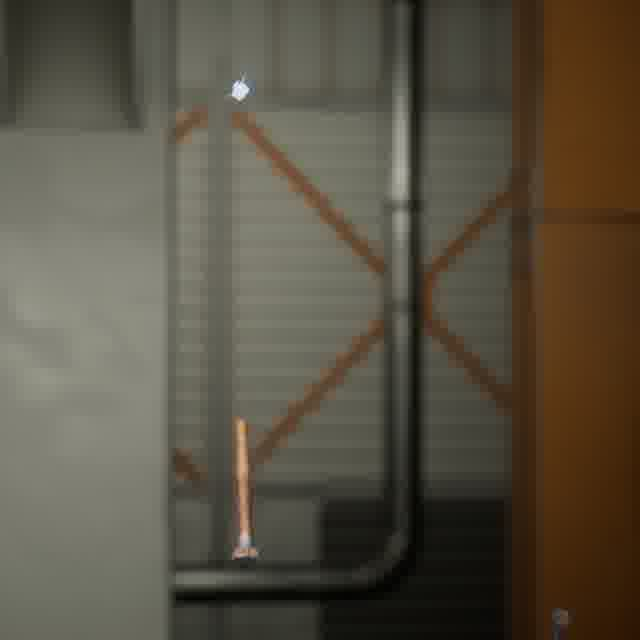bolt: (227, 415, 262, 567), (544, 604, 575, 640)
nut: (222, 69, 259, 107)
